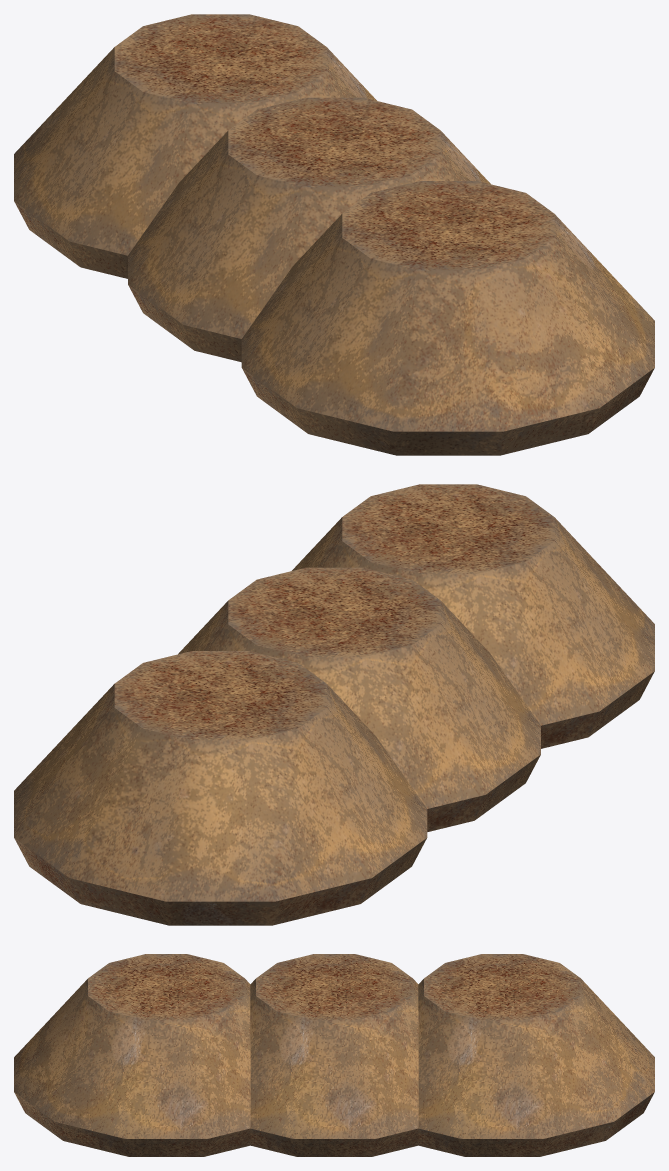
Rendered from centipede_body_prob.fbx.
The picture shows the model from 3 angles, top to bottom: view 1: azimuth 30°, elevation 25°; view 2: azimuth 150°, elevation 25°; view 3: azimuth 270°, elevation 25°; orthographic projection. The views are drawn at different scales.
Visible parts, largest first — view 1: Object011; view 2: Object011; view 3: Object011.
Part boxes in pixels (x1,y1,x2,y2): Object011: (14, 14, 654, 455); Object011: (14, 484, 654, 925); Object011: (14, 954, 654, 1156).
Size of the model in its own units: 66.68 by 26.56 by 140.
